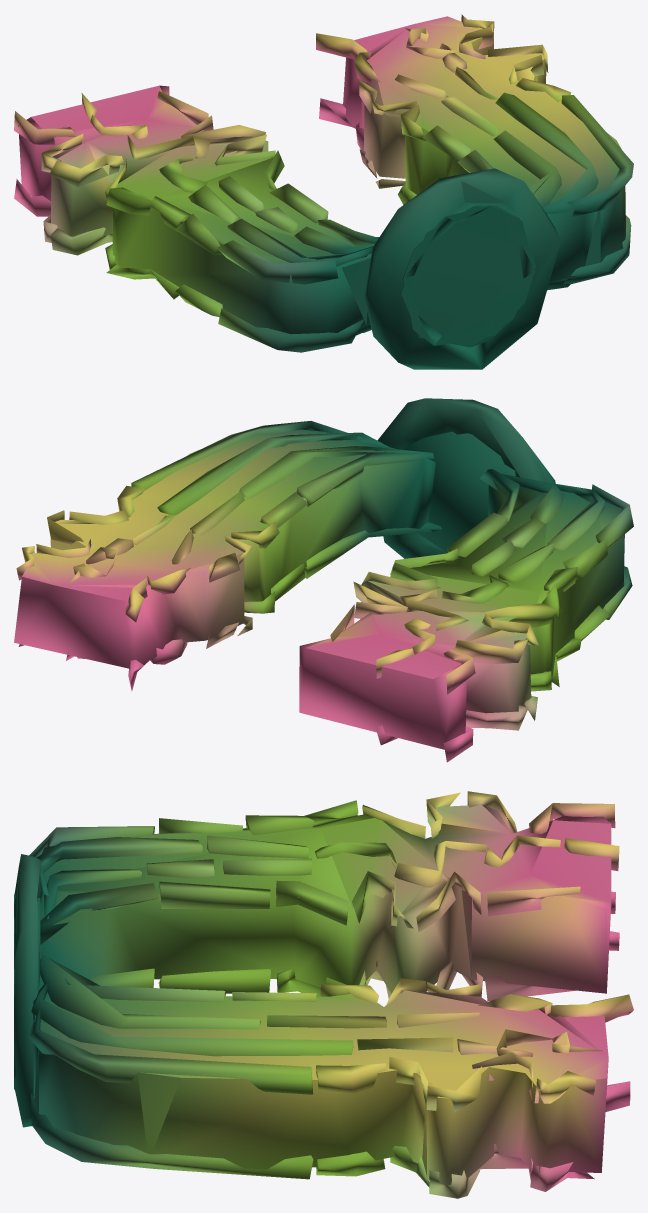
File: mesh_lod_2_e62aacea-18f0-56c2-86c5-de7b3e8ff5c5.glb
The picture shows the model from 3 angles, top to bottom: view 1: azimuth 30°, elevation 25°; view 2: azimuth 150°, elevation 25°; view 3: azimuth 270°, elevation 25°; orthographic projection. The views are drawn at different scales.
Parts seen in each view (by area): view 1: LOD 2_e62aacea-18f0-56c2-86c5-de7b3e8ff5c5; view 2: LOD 2_e62aacea-18f0-56c2-86c5-de7b3e8ff5c5; view 3: LOD 2_e62aacea-18f0-56c2-86c5-de7b3e8ff5c5.
Part boxes in pixels (x1,y1,x2,y2): LOD 2_e62aacea-18f0-56c2-86c5-de7b3e8ff5c5: [14, 14, 633, 369]; LOD 2_e62aacea-18f0-56c2-86c5-de7b3e8ff5c5: [14, 398, 633, 762]; LOD 2_e62aacea-18f0-56c2-86c5-de7b3e8ff5c5: [14, 791, 633, 1198].
Size of the model in its own units: 14.65 by 5.58 by 12.62.
